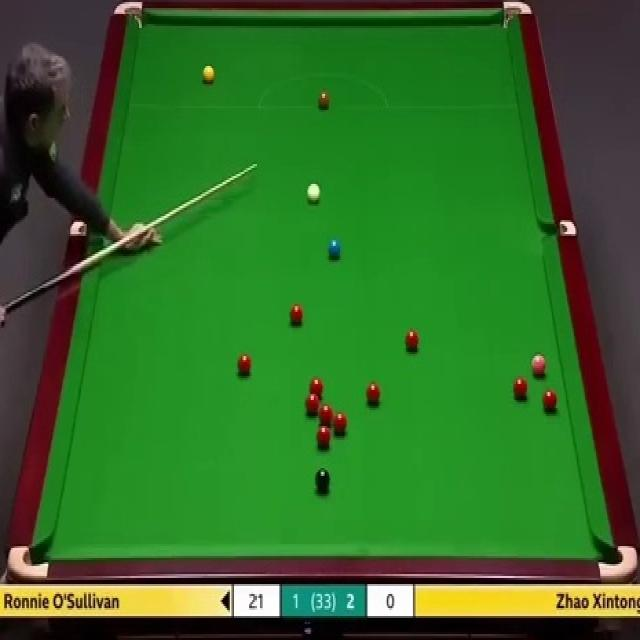pocket: (596, 545, 640, 583), (5, 544, 49, 578), (501, 0, 530, 31), (536, 217, 578, 238), (113, 0, 144, 28)
